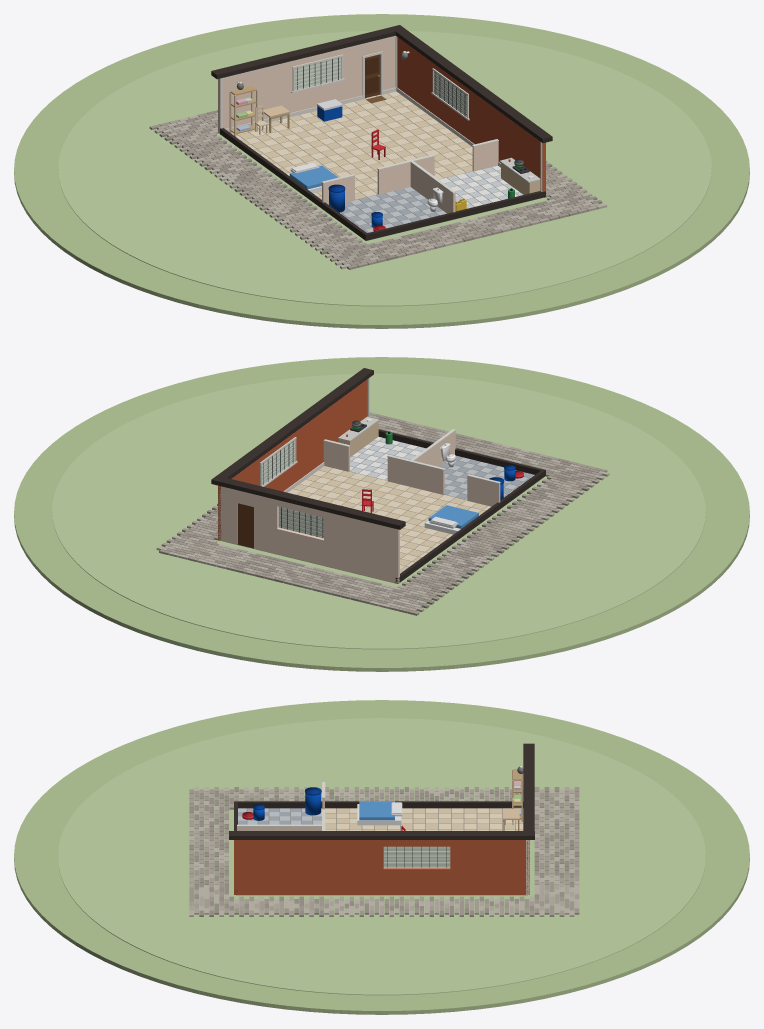
The model's file is selfcon.glb.
The picture shows the model from 3 angles, top to bottom: view 1: azimuth 30°, elevation 25°; view 2: azimuth 150°, elevation 25°; view 3: azimuth 270°, elevation 25°; orthographic projection.
Parts seen in each view (by area): view 1: GrassInner.001, GrassInner, Grass, RoomTile1, RoomTile0, Pavers4, Pavers2, Pavers0, Pavers3, Pavers1, BackWall, RoofR (+22 smaller); view 2: GrassInner, Grass, GrassInner.001, Pavers0, Pavers4, Pavers3, BackWall, Pavers1, Pavers2, RoomTile1, RoomTile0, RoofR (+21 smaller); view 3: GrassInner, GrassInner.001, Grass, Pavers0, Wall, Pavers4, Pavers3, Pavers2, Wall.005, Pavers1, Wall.004, RoofR (+10 smaller).
Boxes of the visible parts, x1,y1,x2,y2 form: GrassInner.001: (66,30,711,304); GrassInner: (58,32,703,306); Grass: (14,14,749,328); RoomTile1: (231,93,472,199); RoomTile0: (236,91,472,199); Pavers4: (164,113,589,267); Pavers2: (159,110,602,262); Pavers0: (162,112,607,269); Pavers3: (154,115,599,261); Pavers1: (149,110,582,269); BackWall: (218,61,293,133); RoofR: (390,25,552,143); GrassInner: (58,375,705,649); Grass: (14,357,749,671); GrassInner.001: (52,373,694,647); Pavers0: (156,420,609,608); Pavers4: (161,412,602,610); Pavers3: (181,415,594,611); BackWall: (324,511,399,583); Pavers1: (159,414,607,615); Pavers2: (186,417,592,608); RoomTile1: (293,466,487,571); RoomTile0: (288,468,490,573); RoofR: (211,368,373,486); GrassInner: (58,718,705,991); GrassInner.001: (58,722,705,995); Grass: (14,700,749,1014); Pavers0: (189,787,579,916); Wall: (234,840,325,894); Pavers4: (189,787,579,916); Pavers3: (189,787,579,916); Pavers2: (189,787,579,916); Wall.005: (450,840,529,894); Pavers1: (189,787,579,916); Wall.004: (322,840,383,894); RoofR: (229,831,534,839).
Bounding box in the file's own units: 35.3 × 3.68 × 35.3.
